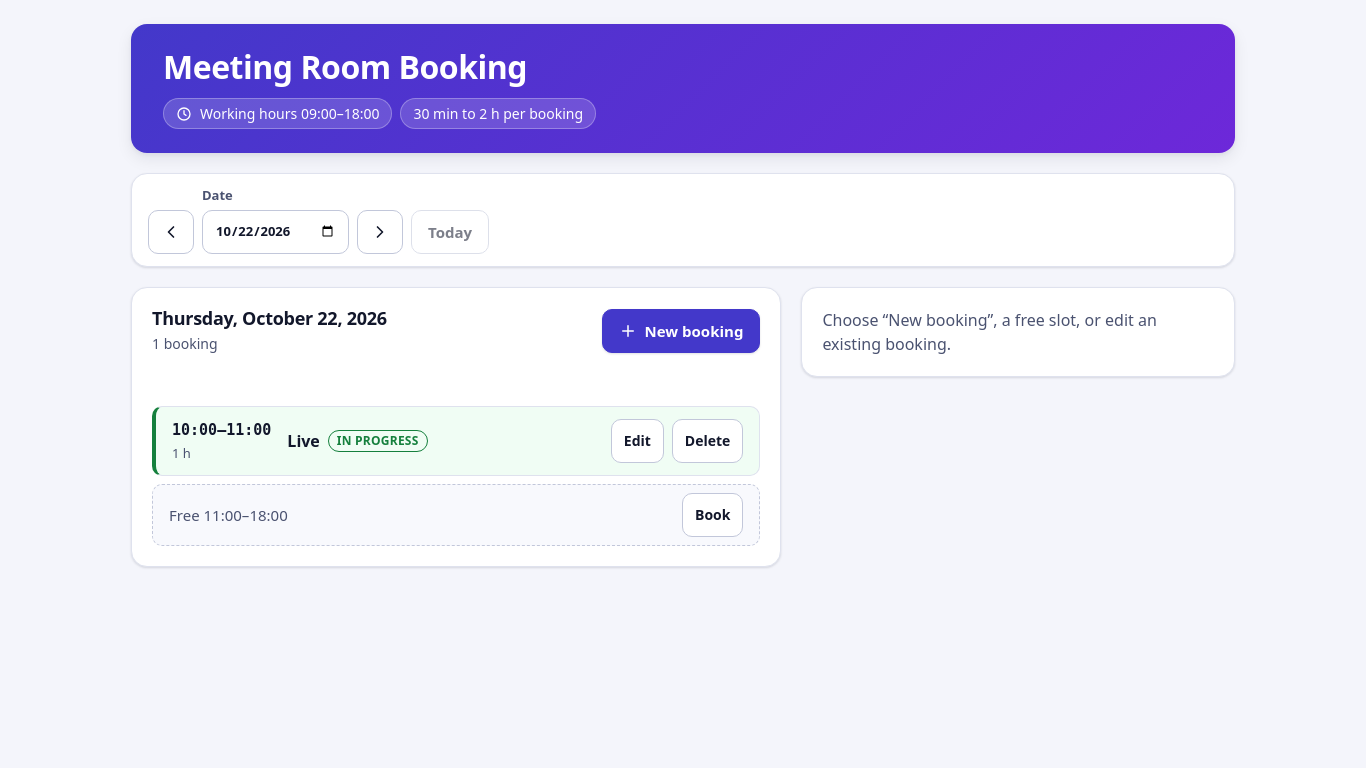
editing a meeting that is in progress (now = 10:07) › shows the locked start as available, keeps end and title editable
The image size is (1366, 768).
Click the button with aria-label "Edit booking 10:00–11:00". click: (637, 442)
box: left=611, top=420, right=664, bottom=464
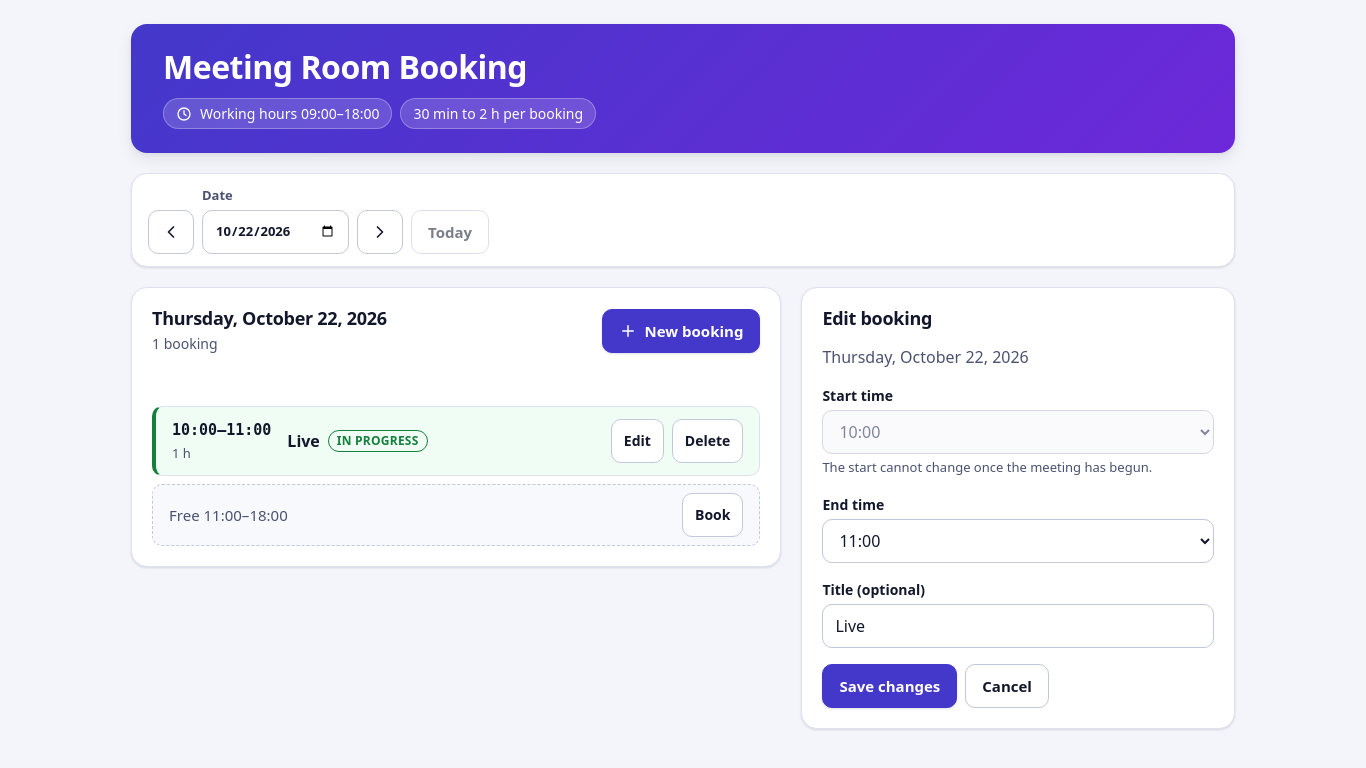
Expected: the dropdown labelled "Start time" is disabled, left=822, top=410, right=1214, bottom=454
Expected: the dropdown labelled "Start time" shows "10:00", left=822, top=410, right=1214, bottom=454
Expected: the text "The start cannot change once the meeting has begun." is shown, left=822, top=458, right=1152, bottom=476
Select "10:30" in the dropdown labelled "End time". click: (1018, 541)
box: left=822, top=519, right=1214, bottom=563
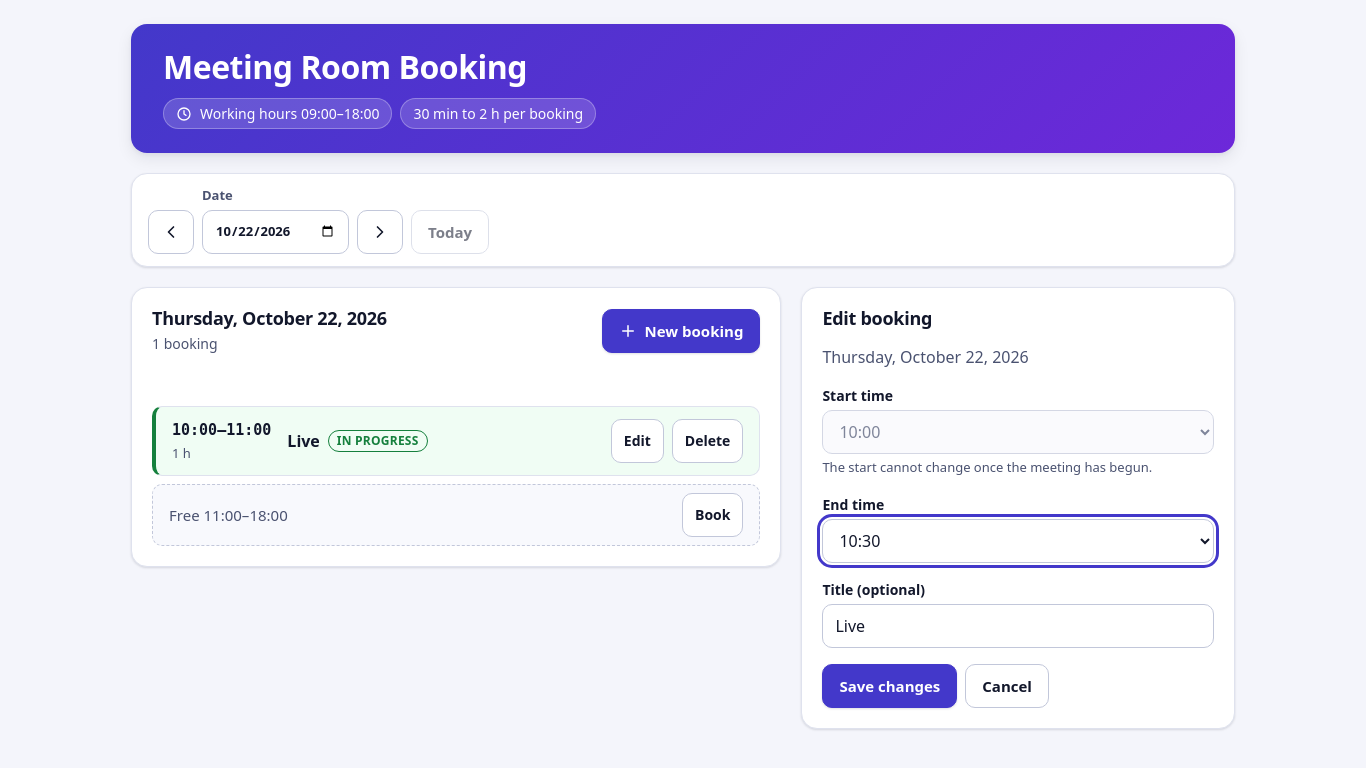
Click the button "Save changes". click: (890, 686)
box: left=822, top=664, right=957, bottom=708
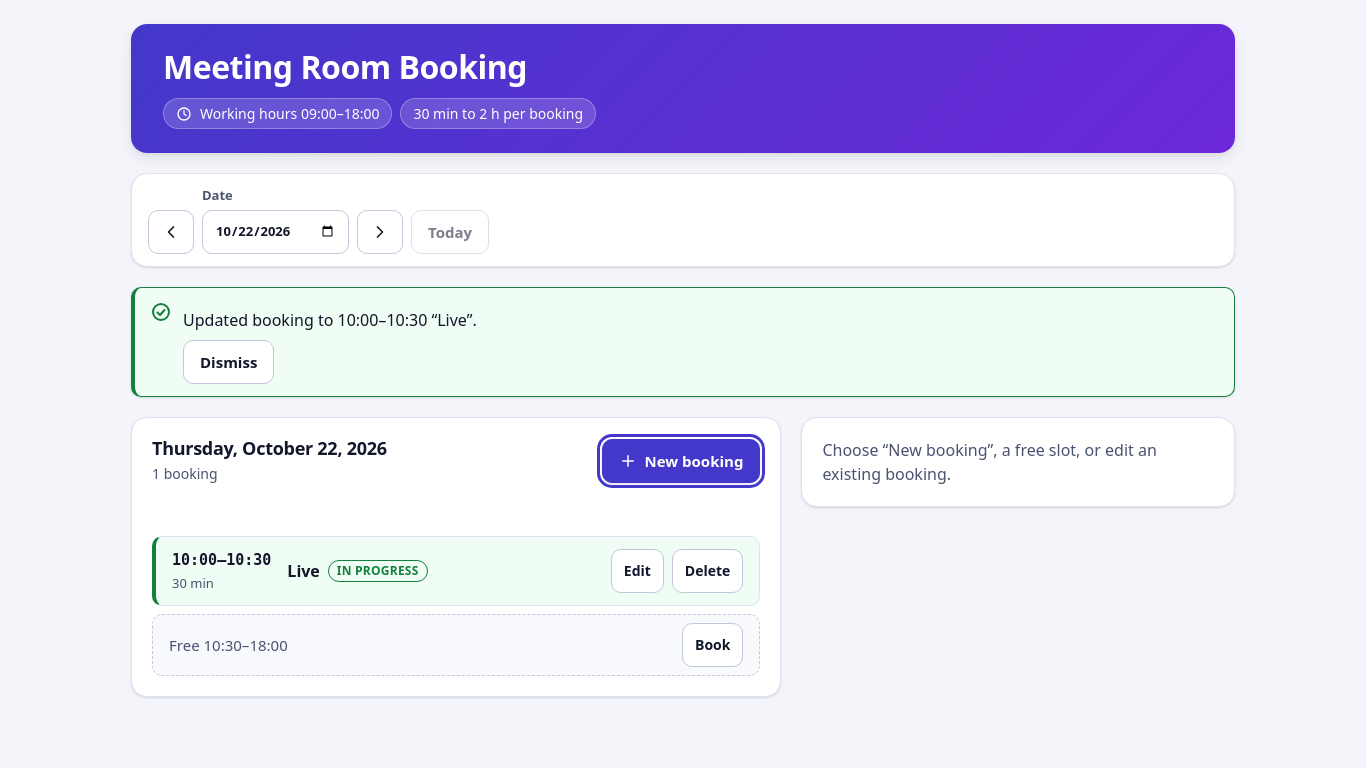
Expected: the text "Updated booking to 10:00–10:30 “Live”." is shown, left=183, top=309, right=477, bottom=331
